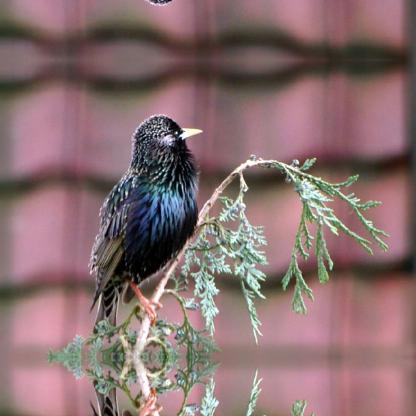Bird: (84, 113, 207, 333)
